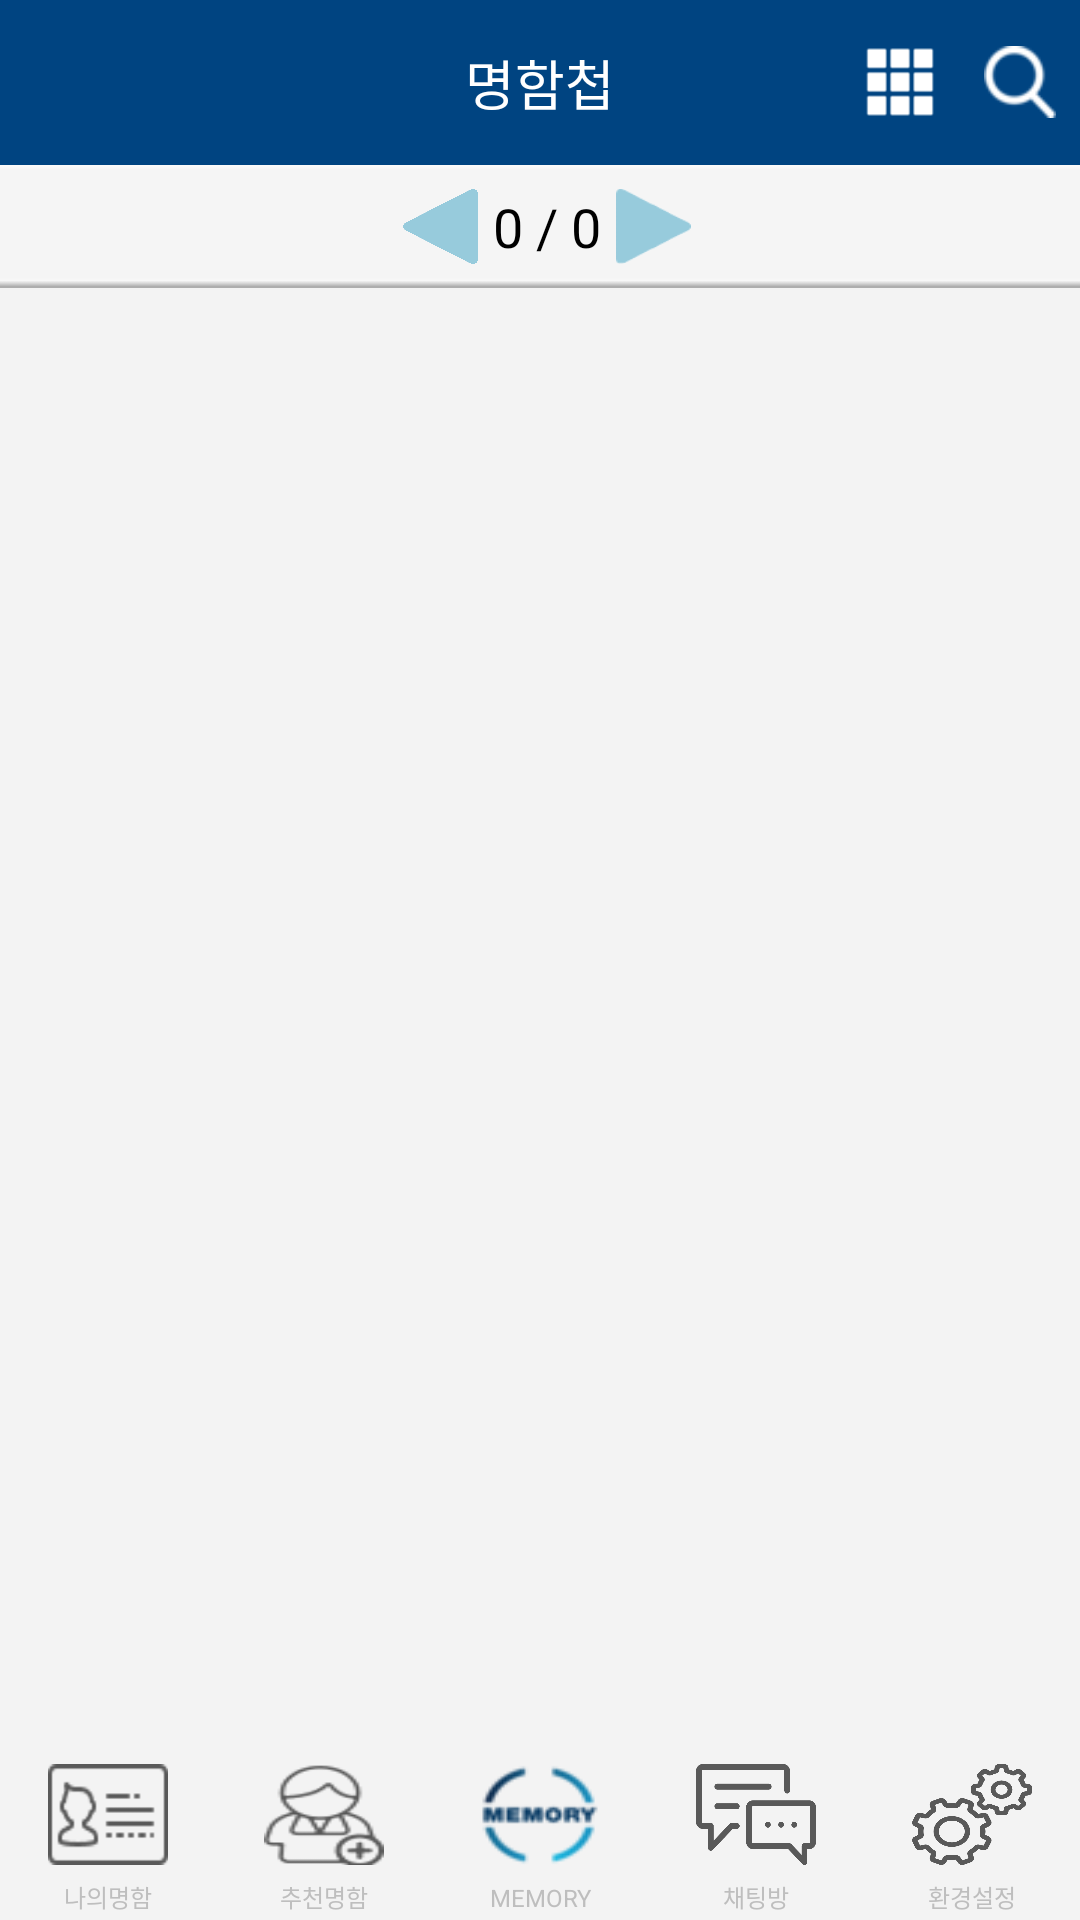

Where icons sit on this 1080 × 1920 app screen, as (x1, y1, x2, y2):
change: (866, 48, 934, 116)
left: (403, 189, 478, 264)
right: (616, 189, 691, 263)
search: (984, 46, 1056, 118)
